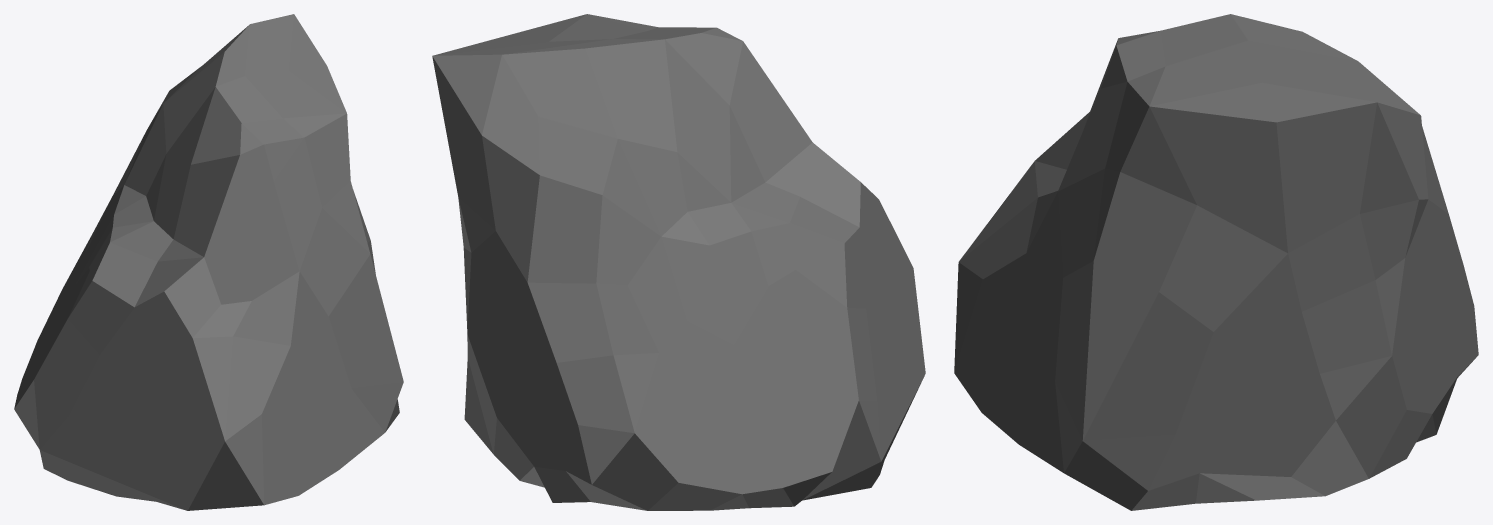
Rendered from rock2.fbx.
3 views of the same model, side by side, from view 1: azimuth 30°, elevation 25°; view 2: azimuth 150°, elevation 25°; view 3: azimuth 270°, elevation 25° (orthographic). The views are drawn at different scales.
Parts seen in each view (by area): view 1: rock large_LOD0; view 2: rock large_LOD0; view 3: rock large_LOD0.
Part boxes in pixels (x1,y1,x2,y2): rock large_LOD0: [14, 14, 403, 510]; rock large_LOD0: [432, 14, 925, 510]; rock large_LOD0: [954, 14, 1478, 510].
Size of what is drawn, in the model's own units: 2.22 by 2.23 by 2.49.
